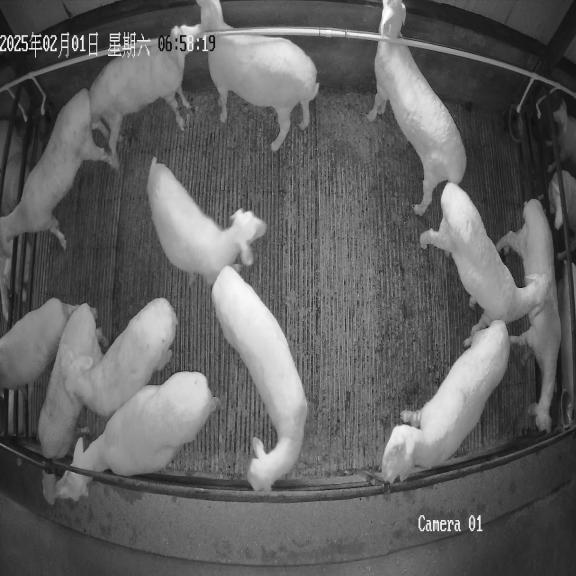eating: (71, 372, 220, 476), (38, 304, 101, 504), (53, 471, 92, 501)
stand: (367, 0, 466, 216), (212, 269, 307, 491), (381, 323, 510, 483), (0, 88, 119, 256), (420, 182, 548, 335), (196, 0, 319, 151), (147, 157, 266, 284), (89, 25, 200, 161), (497, 199, 561, 432), (61, 298, 177, 418), (0, 298, 78, 392)
